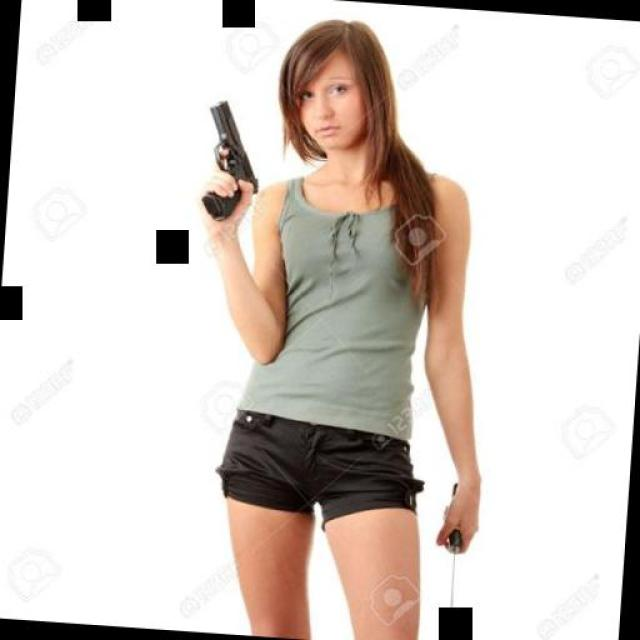gun: (186, 94, 269, 218)
